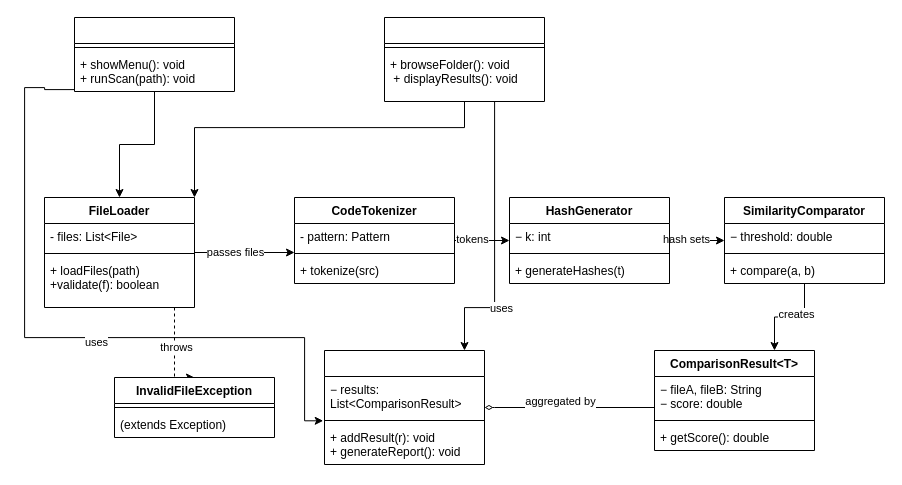
Image size: 902x485. Some labels were removed from this diagram. Each missing label, with the box of its shape:
CLIMenu: (74, 16, 234, 92)
PlagiarismCheckerGUI: (384, 16, 544, 102)
ReportGenerator: (324, 350, 484, 464)
